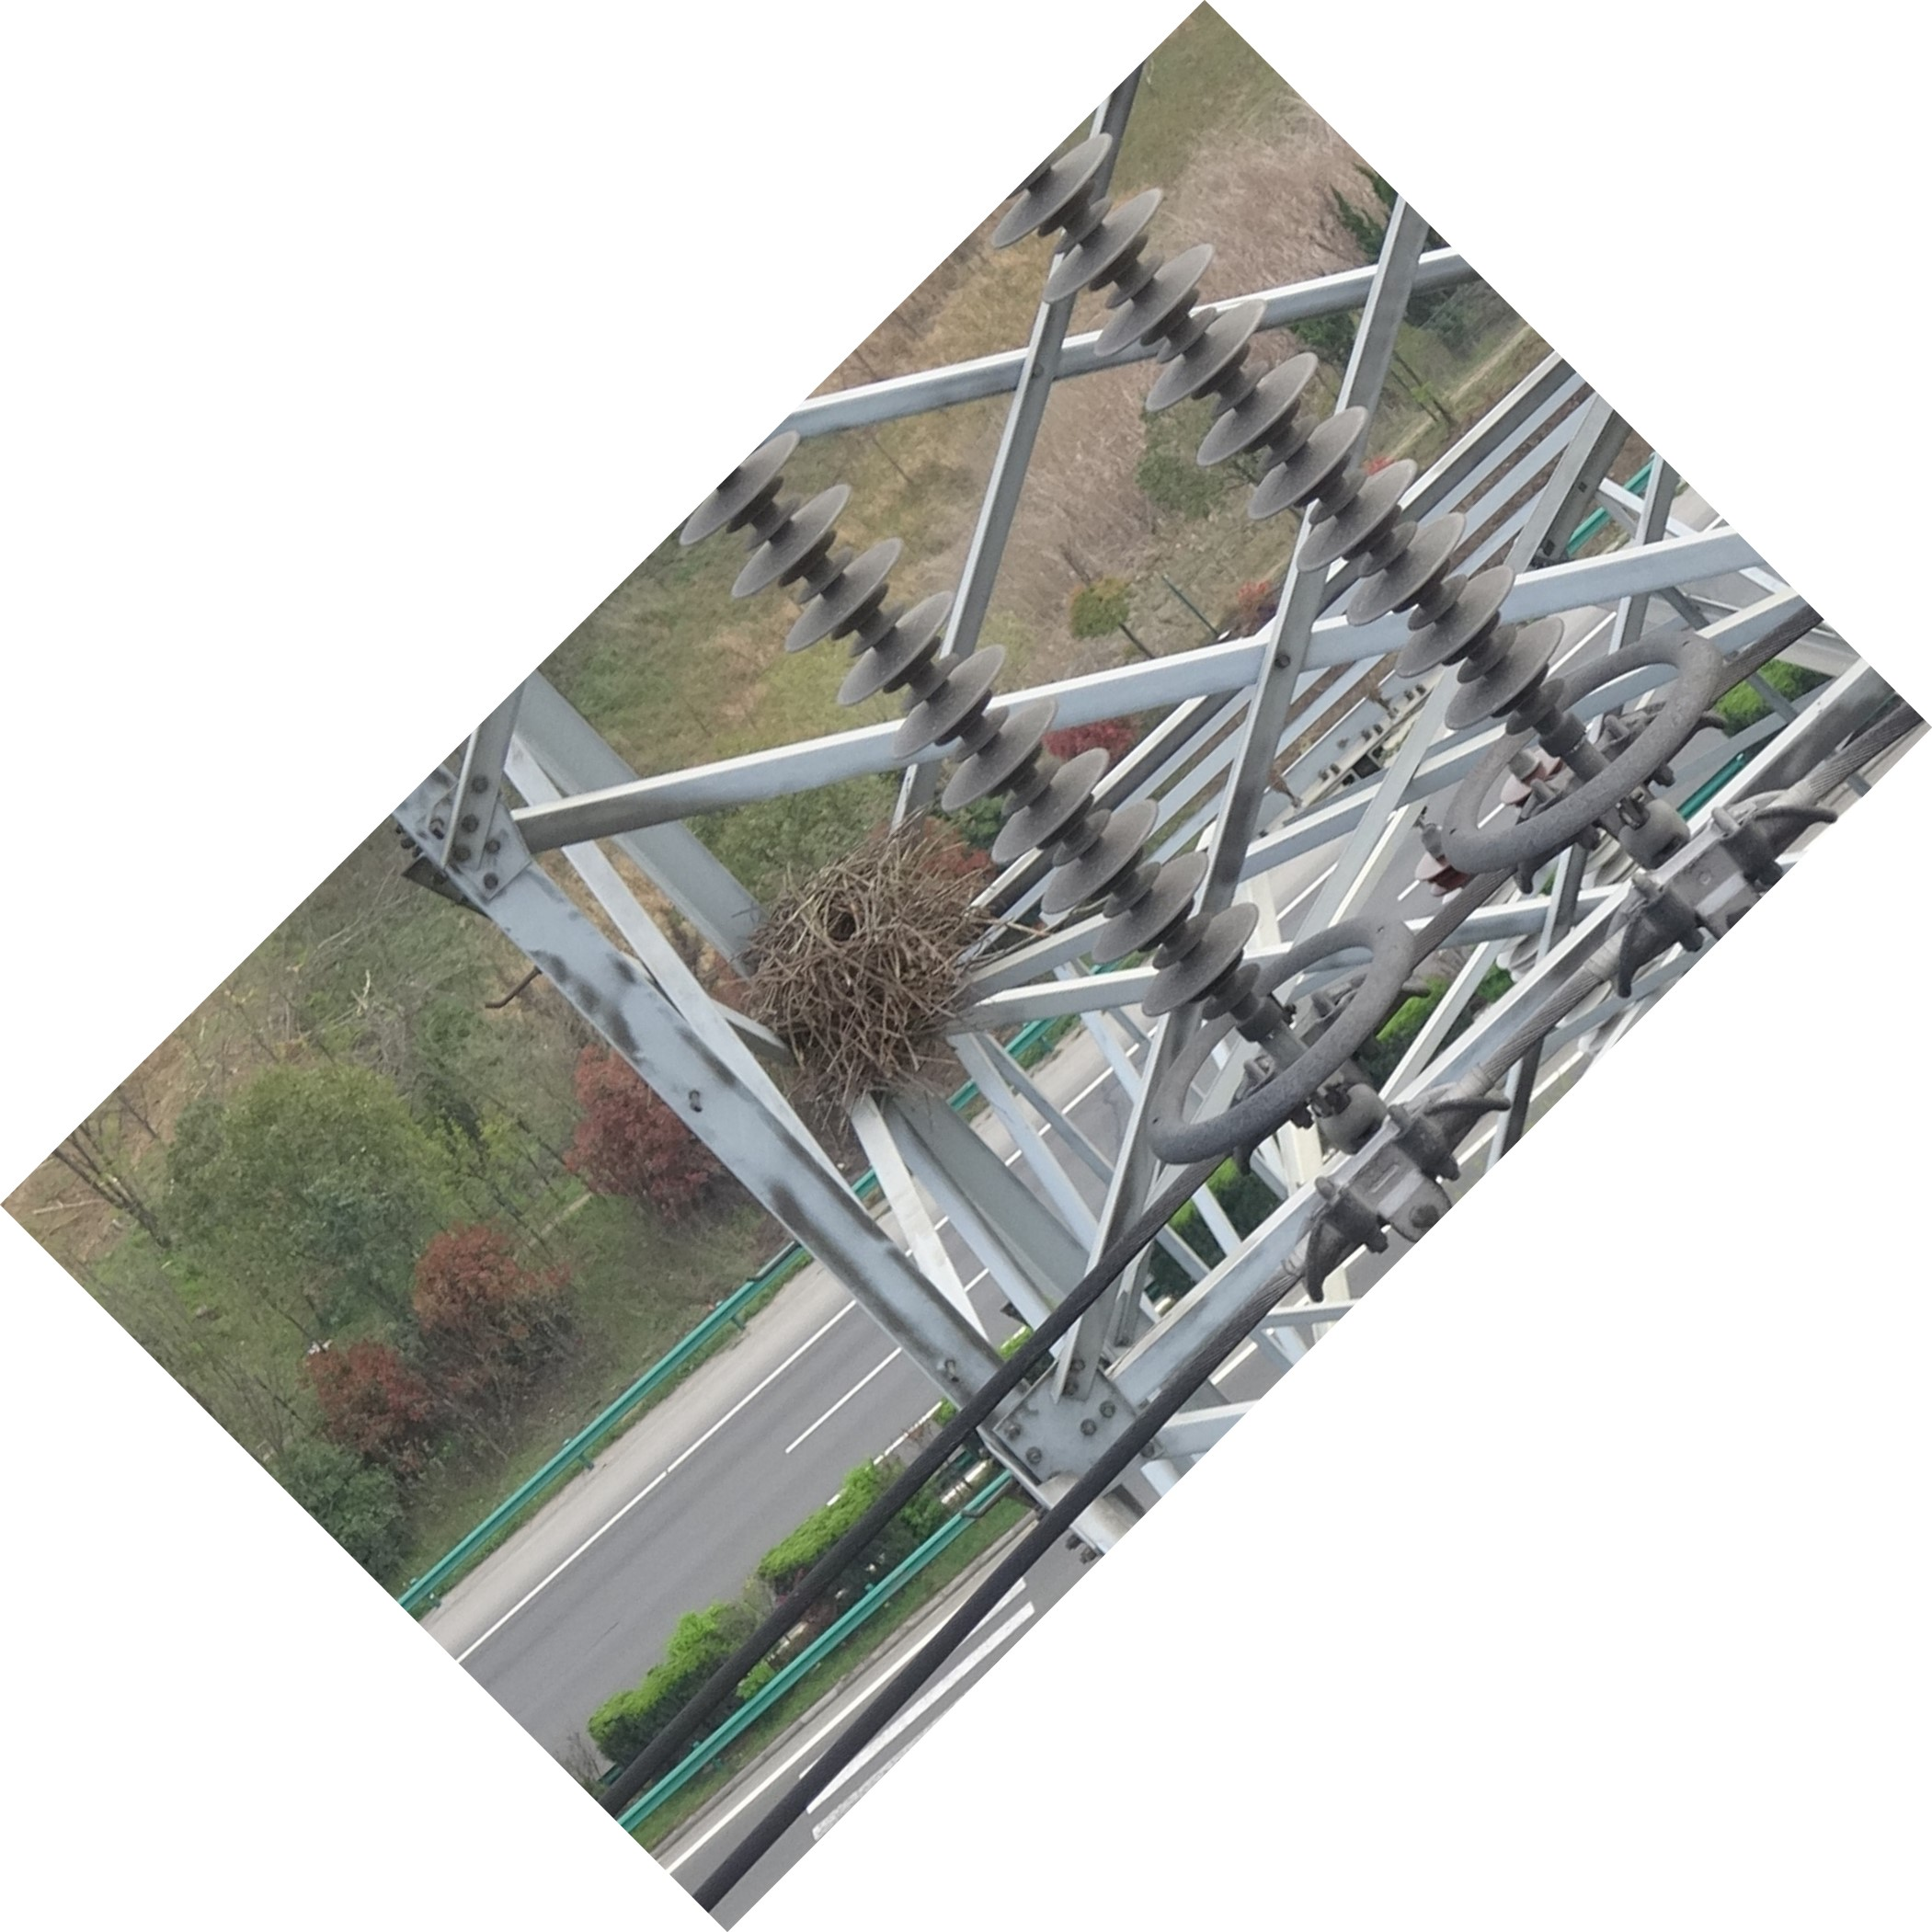niaowo: (672, 830, 996, 1092)
